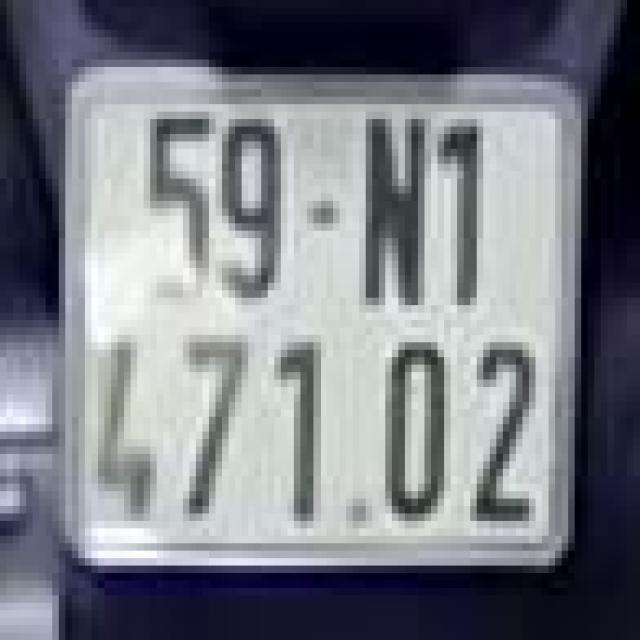0: (378, 331, 451, 517)
1: (271, 335, 336, 528), (434, 112, 493, 320)
2: (473, 339, 539, 532)
4: (91, 335, 157, 521)
5: (140, 112, 219, 305)
7: (176, 331, 248, 525)
9: (222, 108, 287, 309)
N: (356, 108, 434, 316)
